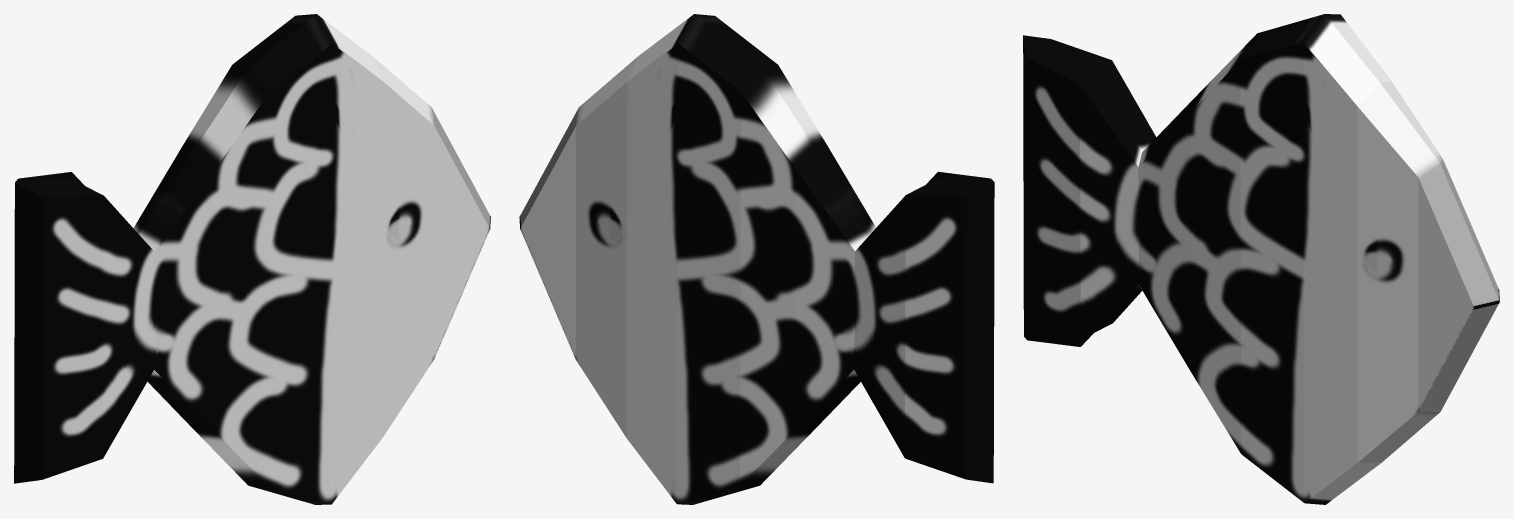
Rendered from fish.fbx.
The picture shows the model from 3 angles, left to right: view 1: azimuth 30°, elevation 25°; view 2: azimuth 150°, elevation 25°; view 3: azimuth 330°, elevation 25°; orthographic projection.
Visible parts, largest first — view 1: fish; view 2: fish; view 3: fish.
Boxes of the visible parts, x1,y1,x2,y2 form: fish: [14, 14, 490, 504]; fish: [519, 14, 994, 504]; fish: [1023, 14, 1499, 504].
Bounding box in the file's own units: 213 × 210 × 29.72.
1 material, 1 textured.
